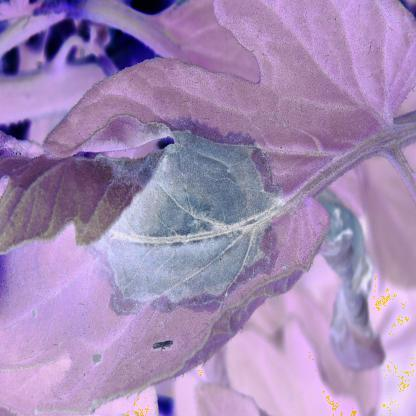Tomato leaf mosaic virus: (6, 15, 405, 406)
